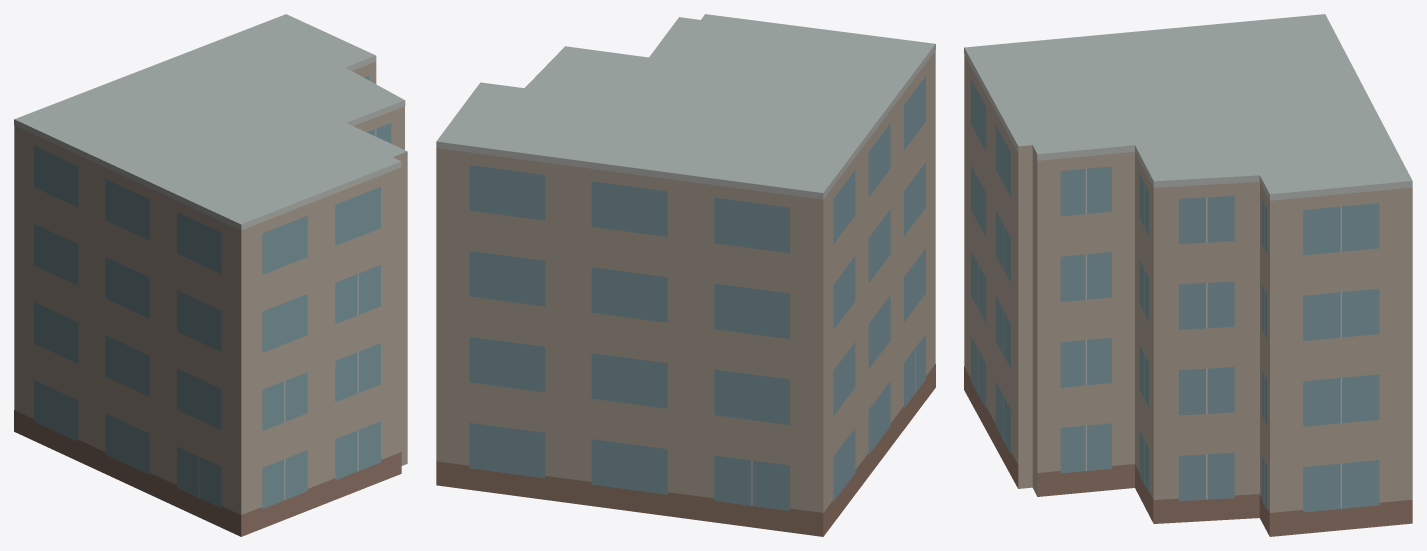
Rendered from survey-upis-32824463.glb.
3 views of the same model, side by side, from view 1: azimuth 30°, elevation 25°; view 2: azimuth 150°, elevation 25°; view 3: azimuth 270°, elevation 25° (orthographic). The views are drawn at different scales.
Visible parts, largest first — view 1: survey-upis-32824463.tmp; view 2: survey-upis-32824463.tmp; view 3: survey-upis-32824463.tmp.
Boxes of the visible parts, x1=… form: survey-upis-32824463.tmp: x1=14, y1=14, x2=407, y2=536; survey-upis-32824463.tmp: x1=436, y1=14, x2=935, y2=536; survey-upis-32824463.tmp: x1=964, y1=14, x2=1412, y2=536.
Bounding box in the file's own units: 14.46 × 12.8 × 15.2.
